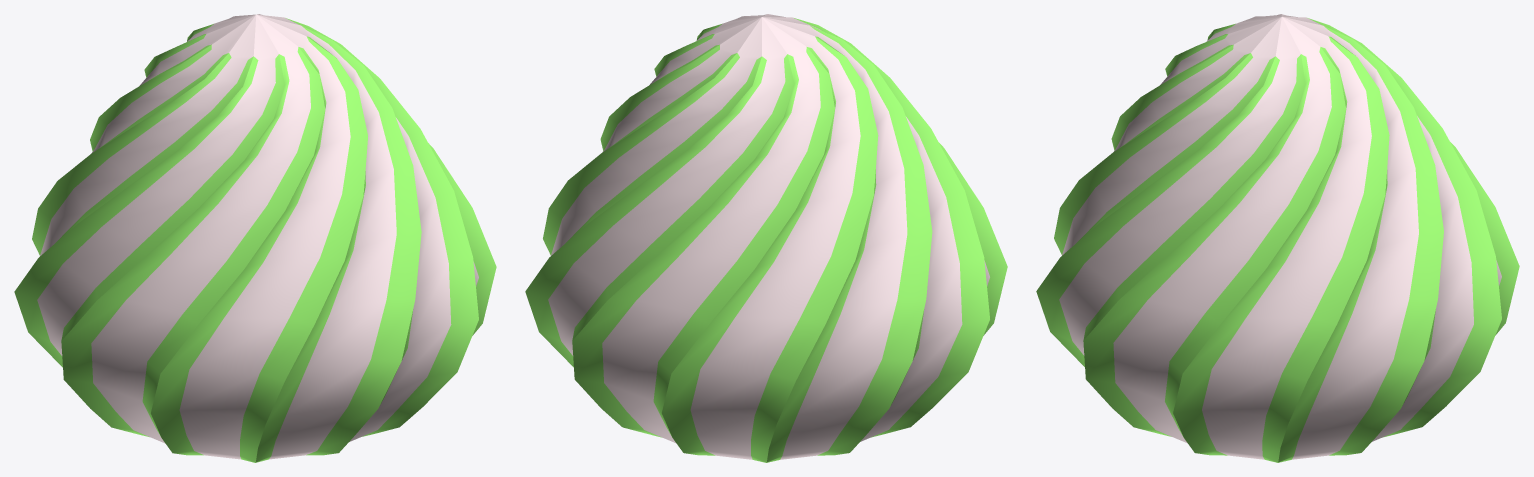
Rendered from Ice Cream Spiral B White Green.fbx.
The picture shows the model from 3 angles, left to right: view 1: azimuth 30°, elevation 25°; view 2: azimuth 150°, elevation 25°; view 3: azimuth 270°, elevation 25°; orthographic projection.
Visible parts, largest first — view 1: Ice Cream Spiral B White Green; view 2: Ice Cream Spiral B White Green; view 3: Ice Cream Spiral B White Green.
Boxes of the visible parts, left/top/right/bottom form: Ice Cream Spiral B White Green: left=14, top=14, right=496, bottom=462; Ice Cream Spiral B White Green: left=525, top=14, right=1007, bottom=462; Ice Cream Spiral B White Green: left=1036, top=14, right=1519, bottom=462.
Size of the model in its own units: 0.4173 by 0.3732 by 0.4173.
